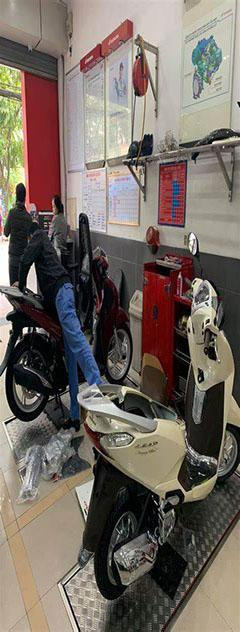motorcycle: (85, 222, 236, 618), (4, 233, 144, 416)
